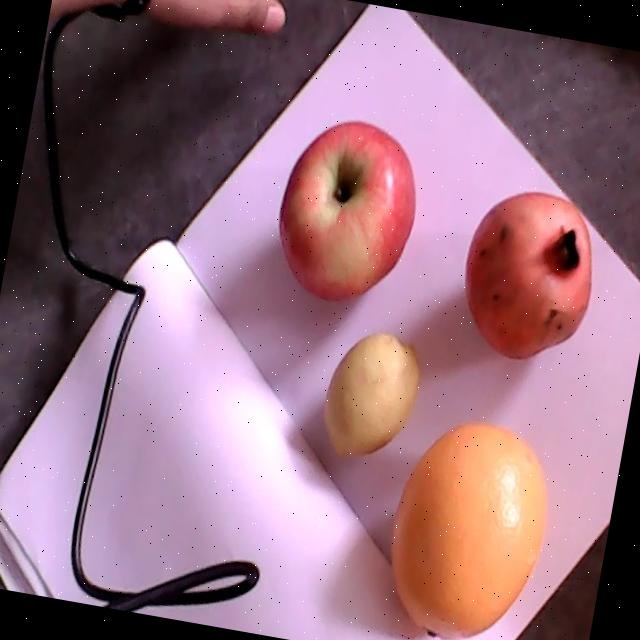apple: (281, 122, 416, 300)
lemon: (323, 332, 418, 456)
orange: (392, 420, 547, 640)
pomegranate: (464, 193, 592, 360)
